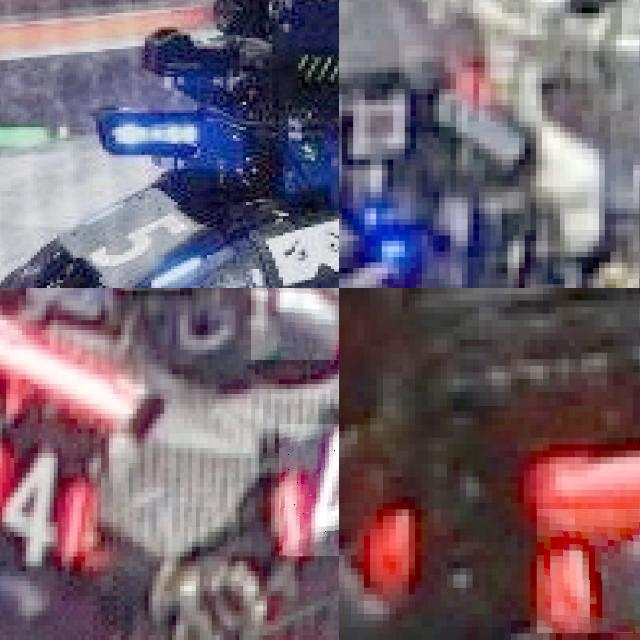R1: (536, 509, 640, 633)
R4: (0, 428, 89, 576), (278, 423, 339, 556), (251, 288, 339, 359)
